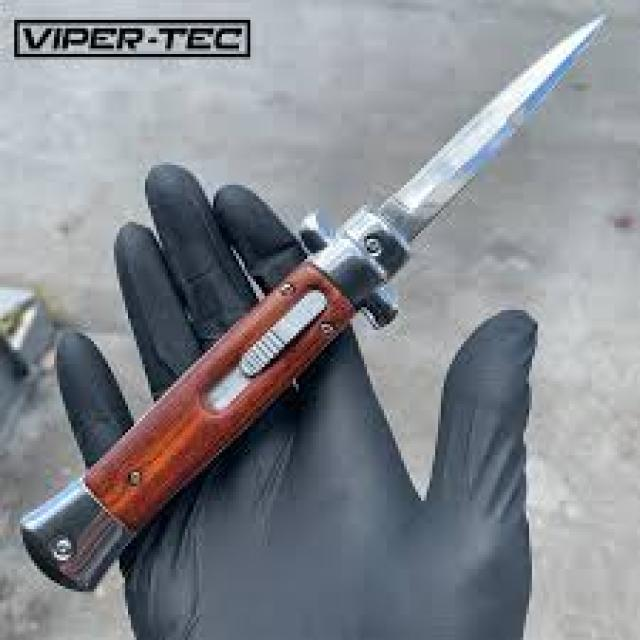knives: (296, 5, 628, 312)
